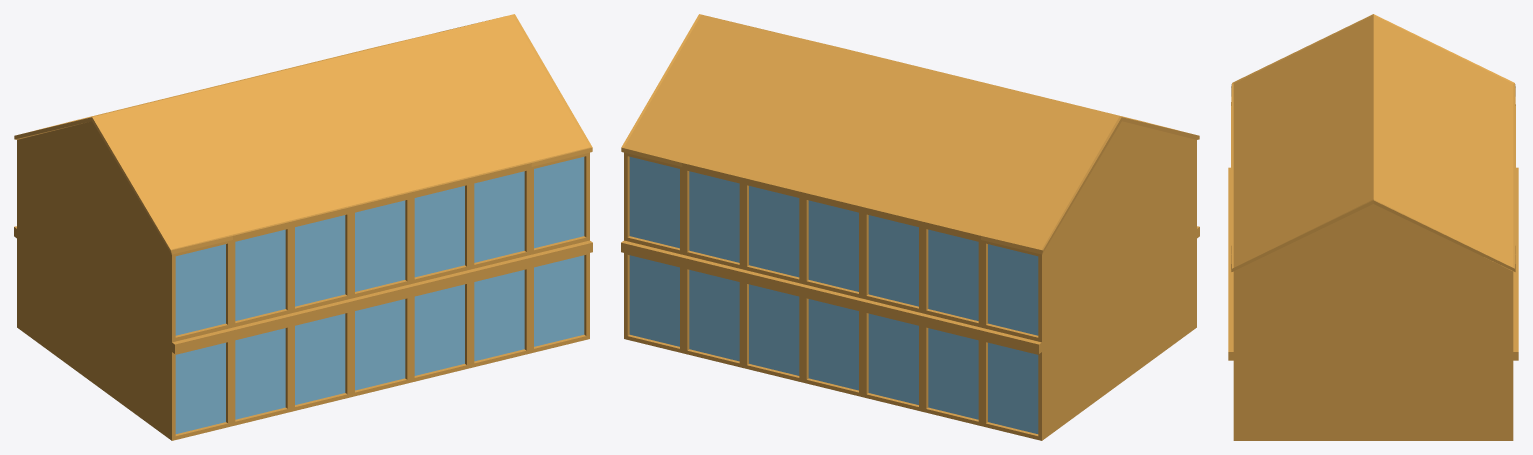
The model's file is ware_house_02.fbx.
3 renders of one model, left to right at view 1: azimuth 30°, elevation 25°; view 2: azimuth 150°, elevation 25°; view 3: azimuth 270°, elevation 25°, orthographic. The views are drawn at different scales.
Visible parts, largest first — view 1: ware_house_02; view 2: ware_house_02; view 3: ware_house_02.
Part boxes in pixels (x1,y1,x2,y2): ware_house_02: [14, 14, 592, 440]; ware_house_02: [621, 14, 1199, 440]; ware_house_02: [1228, 14, 1518, 440].
Bounding box in the file's own units: 30.34 × 18.36 × 20.
